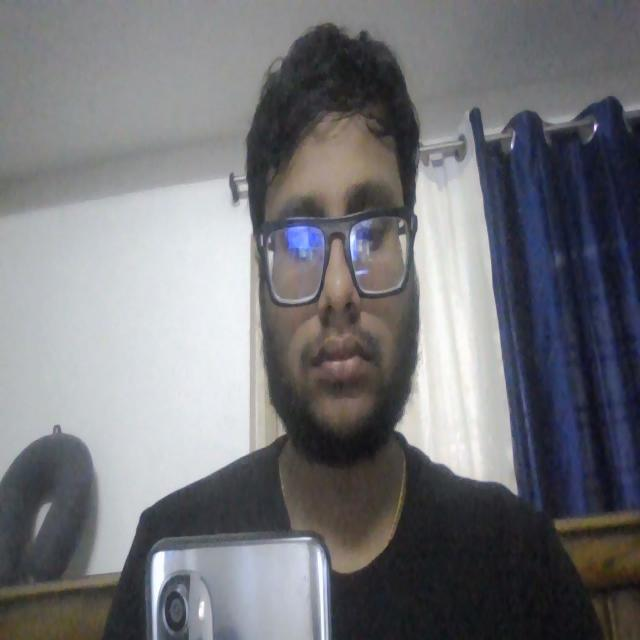phone: (144, 533, 335, 640)
